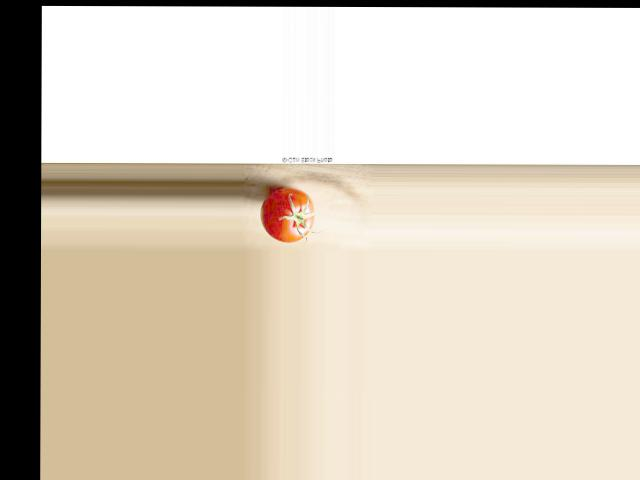tomato: (261, 187, 315, 241)
